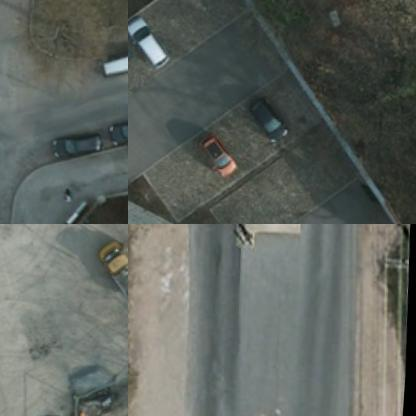car: (128, 12, 178, 65), (53, 118, 106, 160), (95, 230, 127, 291), (204, 124, 242, 174), (252, 95, 287, 136), (99, 36, 127, 73), (109, 105, 127, 143)
